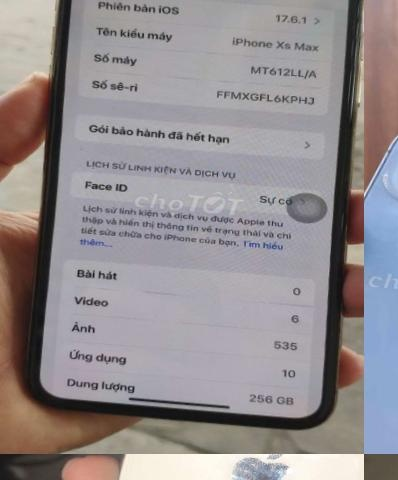scratch: (216, 454, 303, 480)
